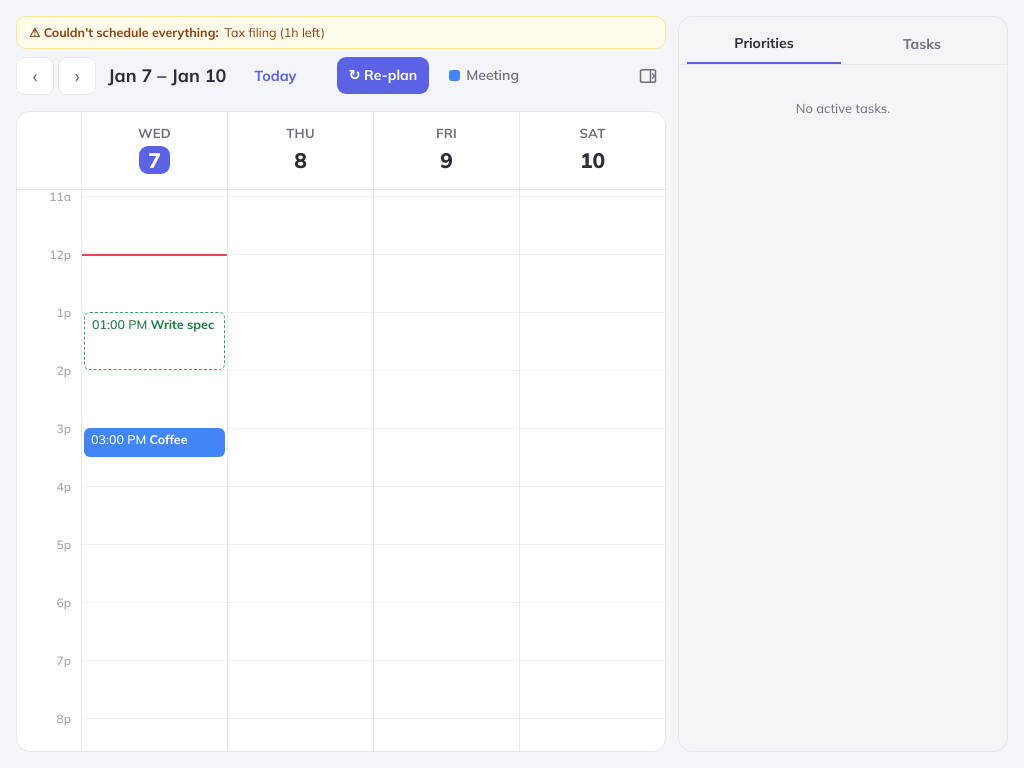
Test: Planner › saving a time edit from the event drawer PATCHes the new start and closes the drawer
This screenshot has width=1024, height=768.
(page scrolled)
Check: the text "Coffee" is shown, box [150, 431, 188, 447]
Press the mouse on the element with test id "event-block" at (154, 442), box [84, 428, 225, 457]
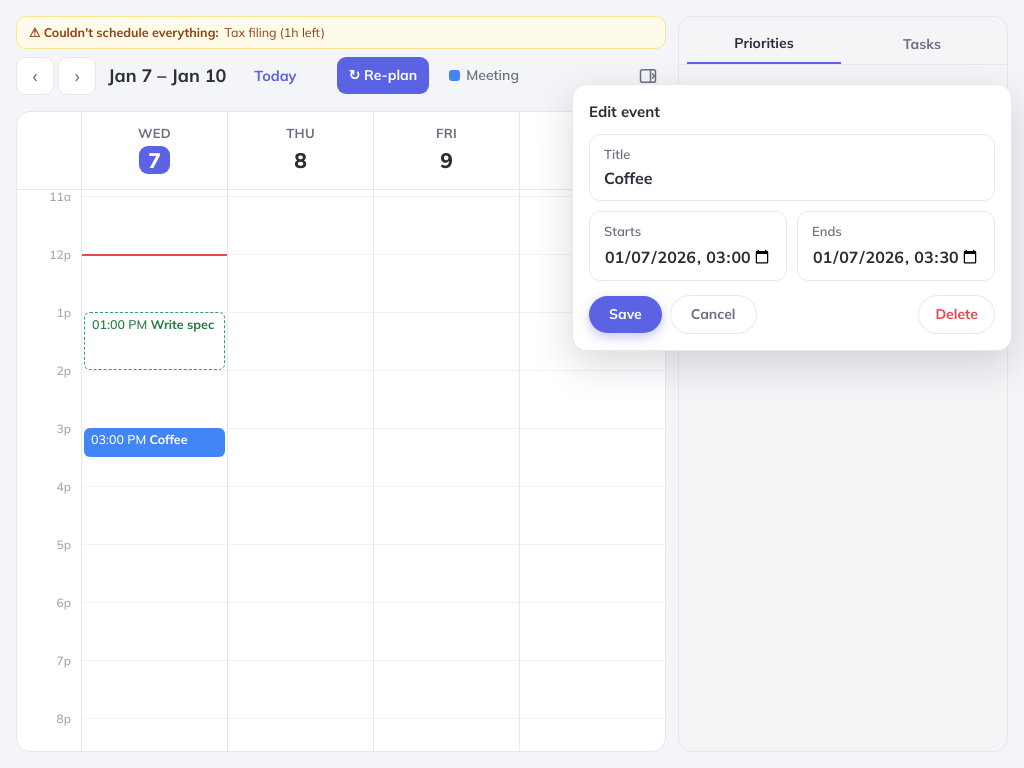
Replace the text in the field with test id "event-start" with "2026-01-07T14:00" at (688, 256), box [604, 244, 772, 270]
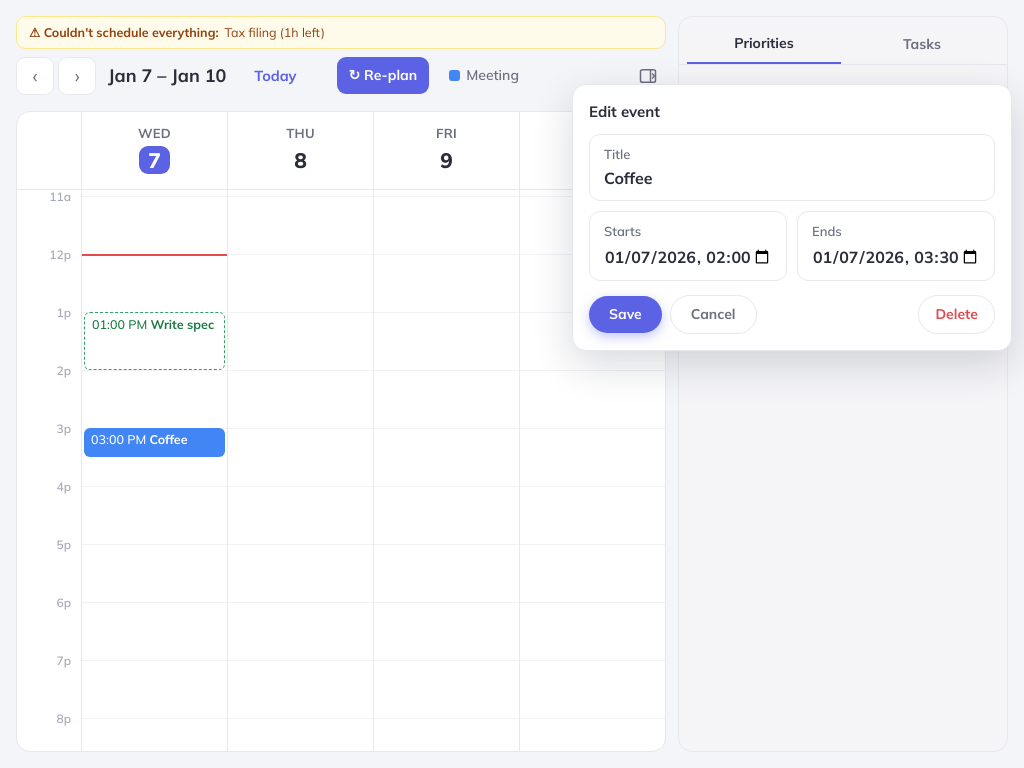
Click the button with test id "event-save" at (625, 314), box [589, 296, 662, 332]
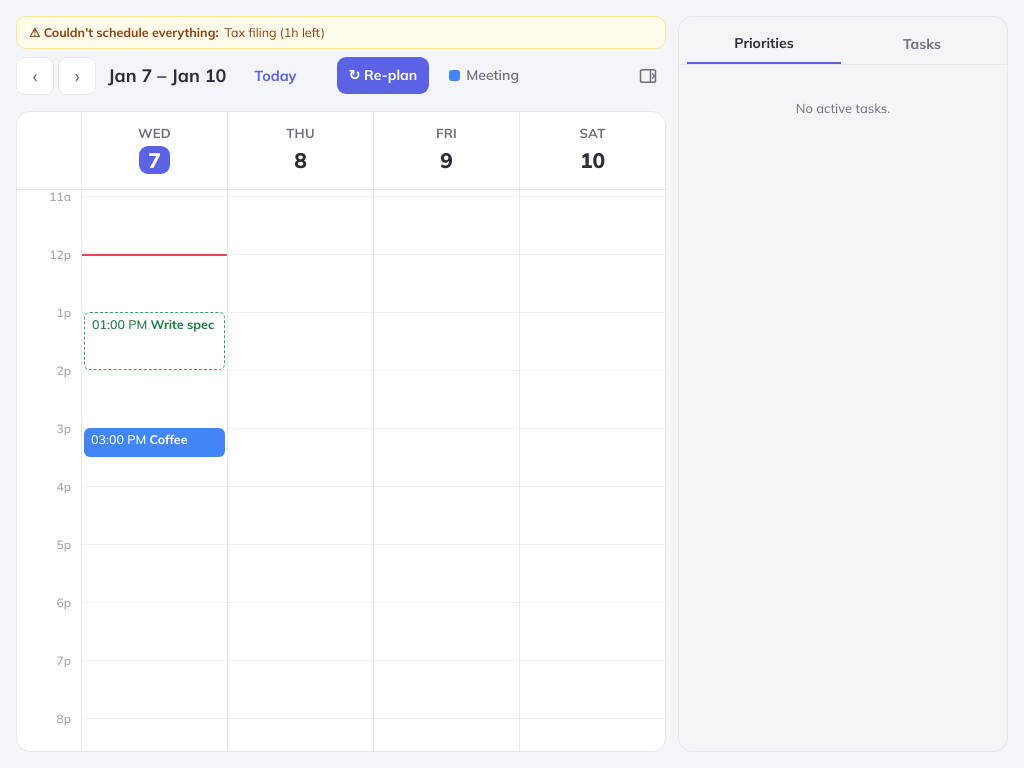
Check: the element with test id "event-drawer" is gone
